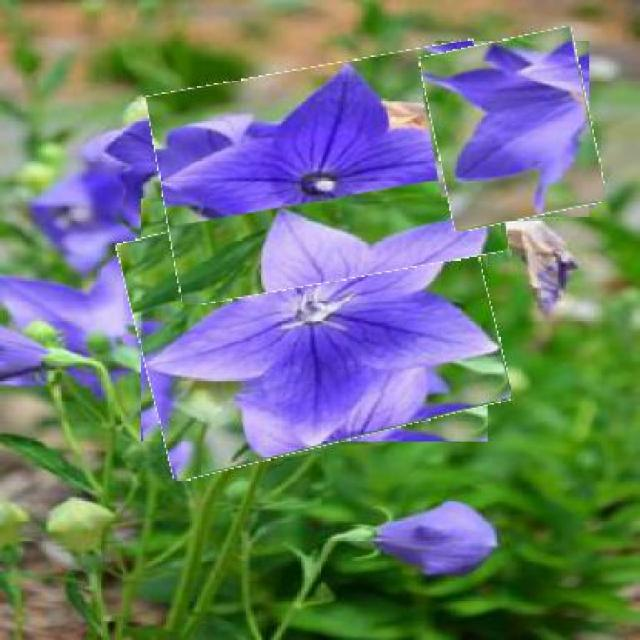Flower: (128, 180, 501, 463), (154, 53, 501, 293), (427, 33, 599, 225)
